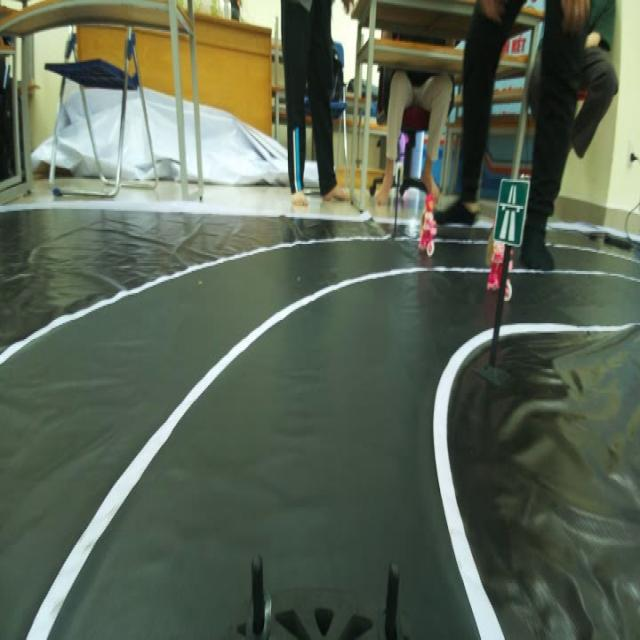highway_entry: (496, 173, 525, 250)
pedestrian: (411, 184, 440, 260), (482, 247, 516, 300)
